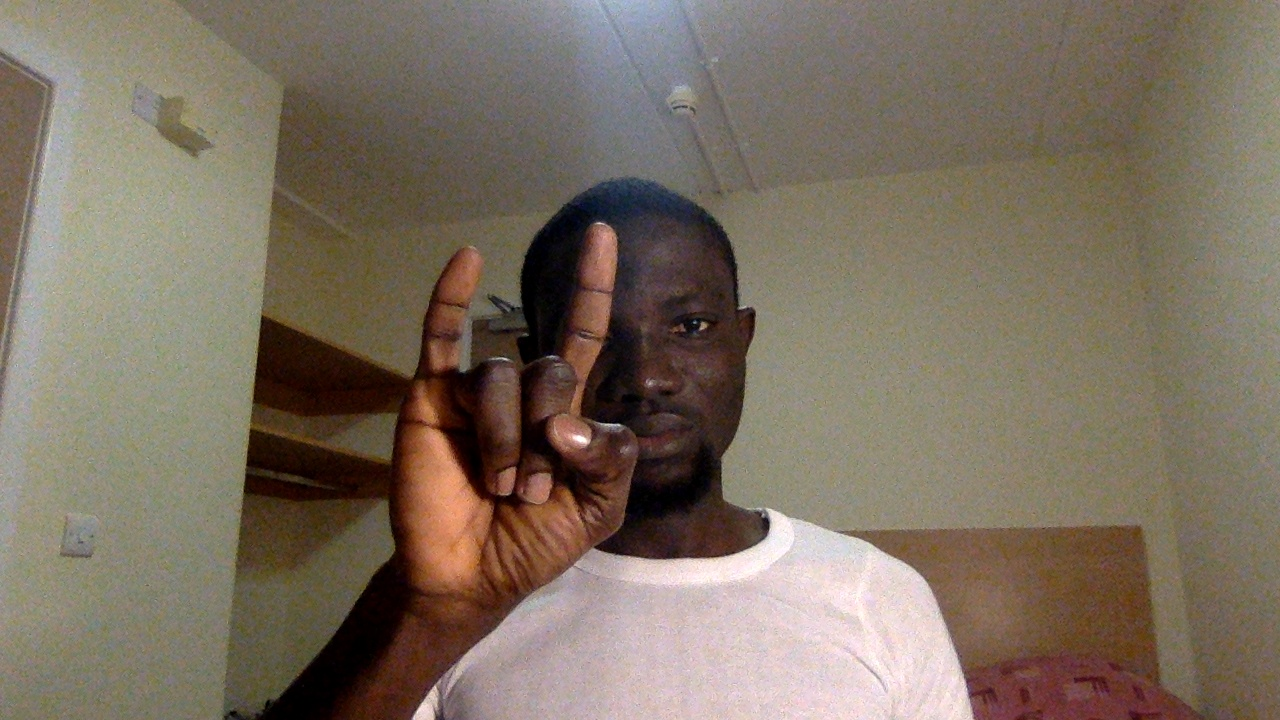I Love You: (382, 211, 641, 626)
